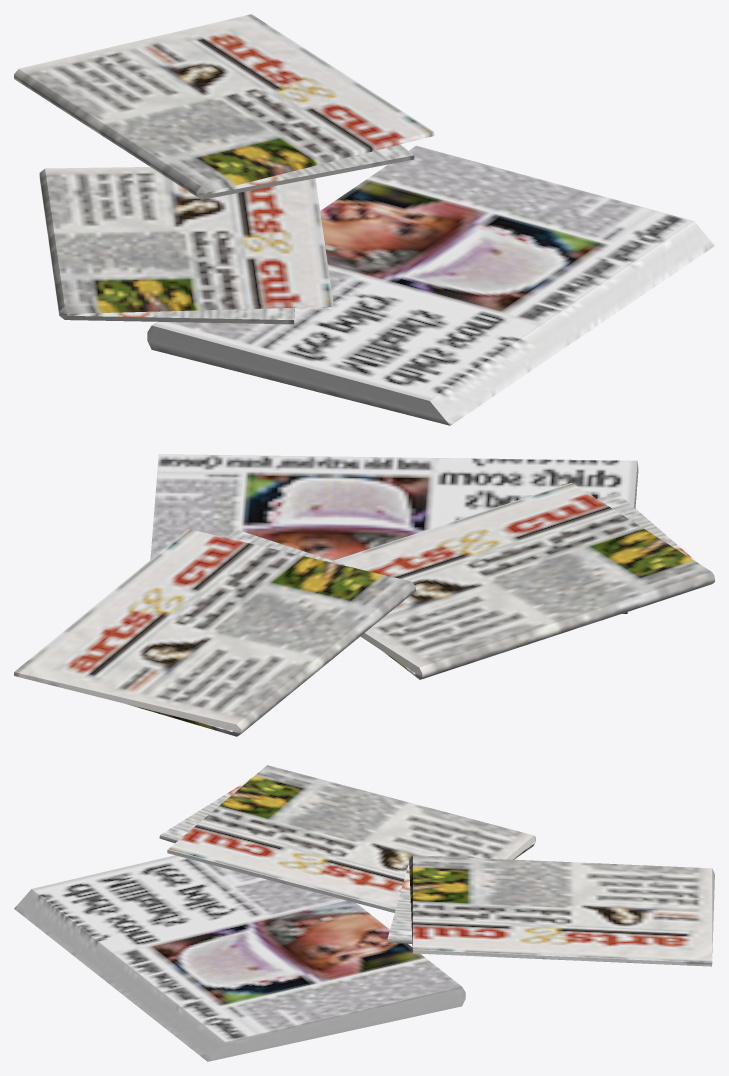
The model's file is ZhiBanShi_01_baozhi_01.FBX.
The picture shows the model from 3 angles, top to bottom: view 1: azimuth 30°, elevation 25°; view 2: azimuth 150°, elevation 25°; view 3: azimuth 270°, elevation 25°; orthographic projection. The views are drawn at different scales.
Parts seen in each view (by area): view 1: ZhiBanShi_baozhi_02; view 2: ZhiBanShi_baozhi_02; view 3: ZhiBanShi_baozhi_02.
Part boxes in pixels (box(x1,y1,x2,y2)): ZhiBanShi_baozhi_02: box(14, 14, 714, 425); ZhiBanShi_baozhi_02: box(14, 454, 714, 736); ZhiBanShi_baozhi_02: box(14, 765, 714, 1061).
Size of the model in its own units: 231 by 23.24 by 277.
